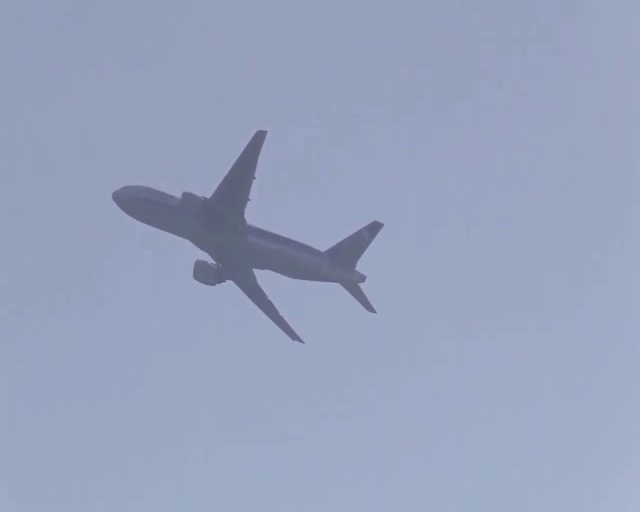AIRPLANE: (111, 125, 384, 349)
